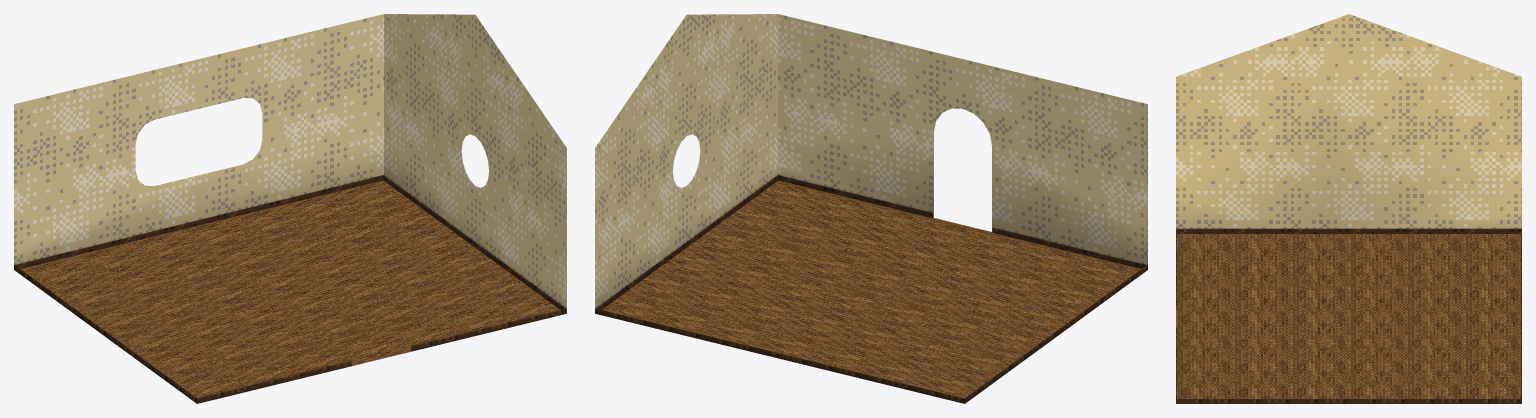
File: shell.glb
3 renders of one model, left to right at view 1: azimuth 30°, elevation 25°; view 2: azimuth 150°, elevation 25°; view 3: azimuth 270°, elevation 25°, orthographic. The views are drawn at different scales.
Visible parts, largest first — view 1: kit_shell_walls, kit_shell_floor, kit_trim; view 2: kit_shell_walls, kit_shell_floor, kit_trim; view 3: kit_shell_walls, kit_shell_floor, kit_trim.
Boxes of the visible parts, <box> form: kit_shell_walls: <box>14,14,566,308</box>; kit_shell_floor: <box>21,180,559,398</box>; kit_trim: <box>14,175,566,403</box>; kit_shell_walls: <box>595,14,1147,308</box>; kit_shell_floor: <box>602,180,1140,398</box>; kit_trim: <box>595,175,1147,403</box>; kit_shell_walls: <box>1176,14,1521,228</box>; kit_shell_floor: <box>1176,234,1520,398</box>; kit_trim: <box>1176,228,1521,403</box>.
Bounding box in the file's own units: 7 × 4.2 × 6.
3 materials, 3 textured.
